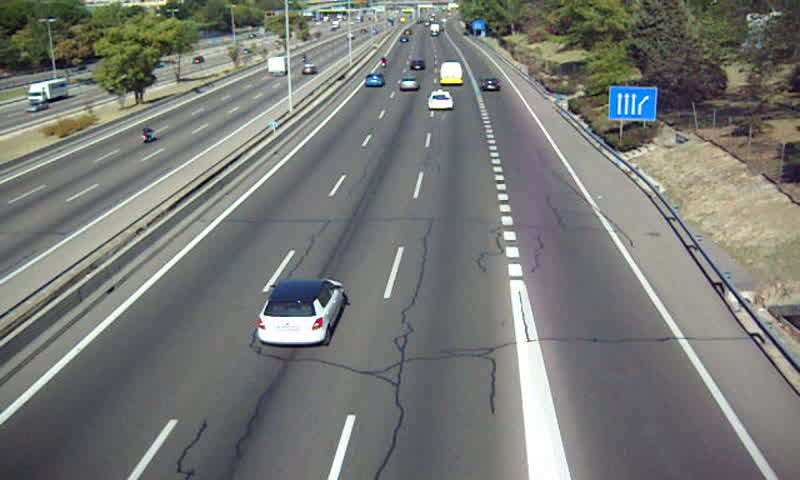car: (257, 280, 344, 344), (426, 90, 455, 110), (398, 77, 420, 92), (478, 78, 500, 92), (364, 74, 382, 90)
van: (438, 63, 463, 86)
